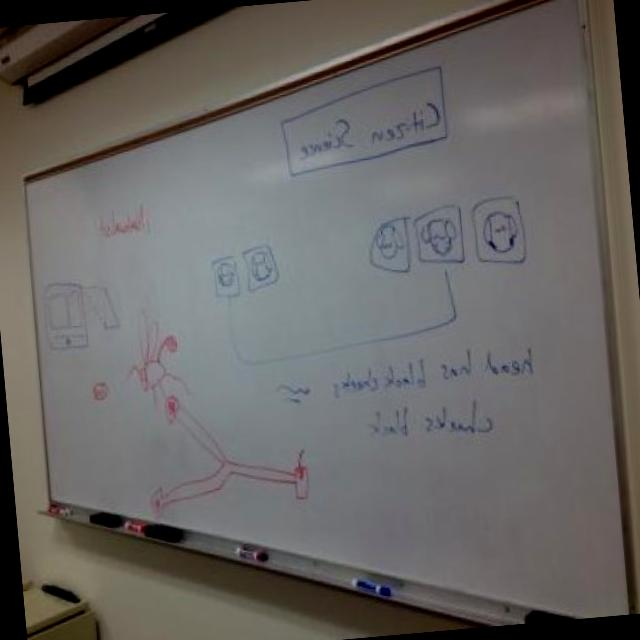White-board: (24, 0, 628, 614)
